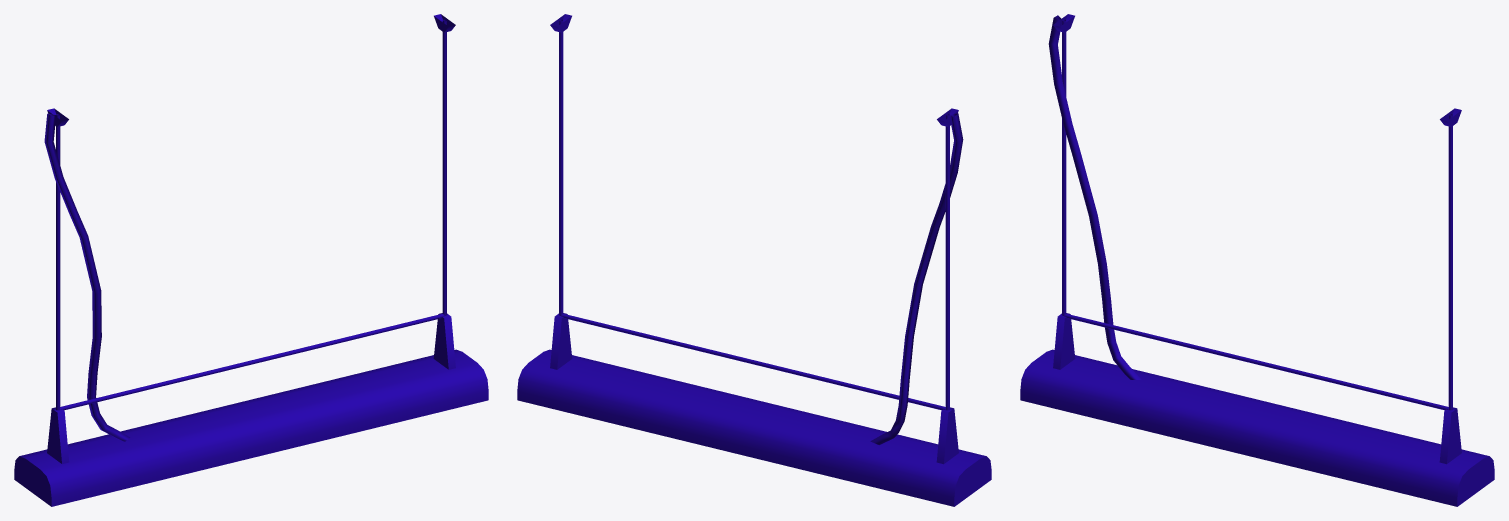
The model's file is LampCeiling_04.FBX.
3 views of the same model, side by side, from view 1: azimuth 30°, elevation 25°; view 2: azimuth 150°, elevation 25°; view 3: azimuth 330°, elevation 25° (orthographic).
Visible parts, largest first — view 1: SM_LampCeilingA_03_LOD0; view 2: SM_LampCeilingA_03_LOD0; view 3: SM_LampCeilingA_03_LOD0.
Boxes of the visible parts, x1,y1,x2,y2 form: SM_LampCeilingA_03_LOD0: (14,14,488,506); SM_LampCeilingA_03_LOD0: (517,14,991,506); SM_LampCeilingA_03_LOD0: (1020,14,1494,506).
Size of the model in its own units: 200 by 168 by 29.56.
